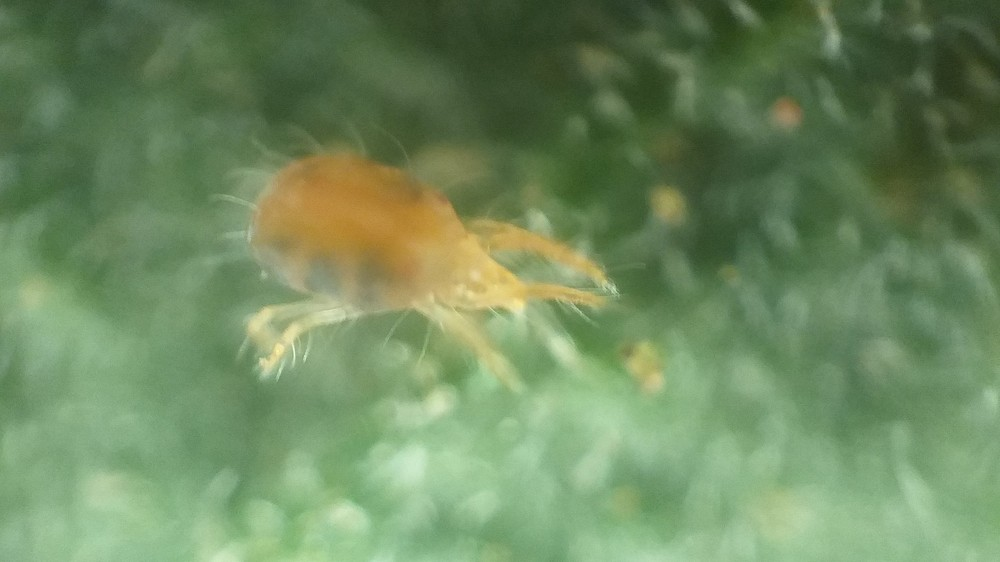Aracnido Rojo: (216, 123, 653, 419)
